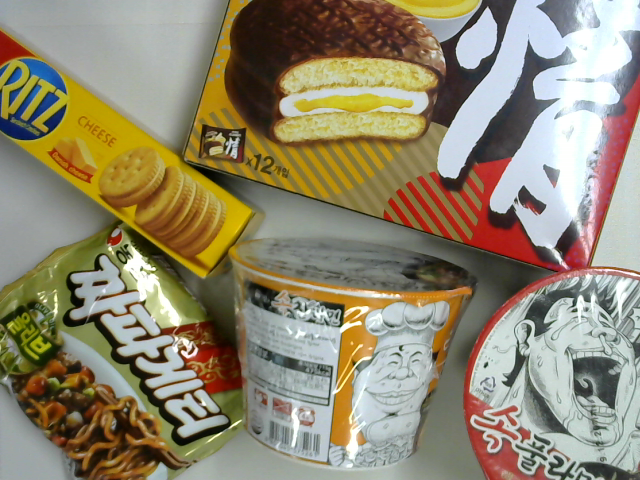Choco_Pie_Banana: (180, 1, 638, 278)
Hejangchan: (226, 234, 476, 472)
Hejangpul: (458, 263, 639, 480)
Olive_Chapaghetti: (1, 220, 252, 478)
Ritz_Sand_Cracker: (1, 18, 268, 281)
